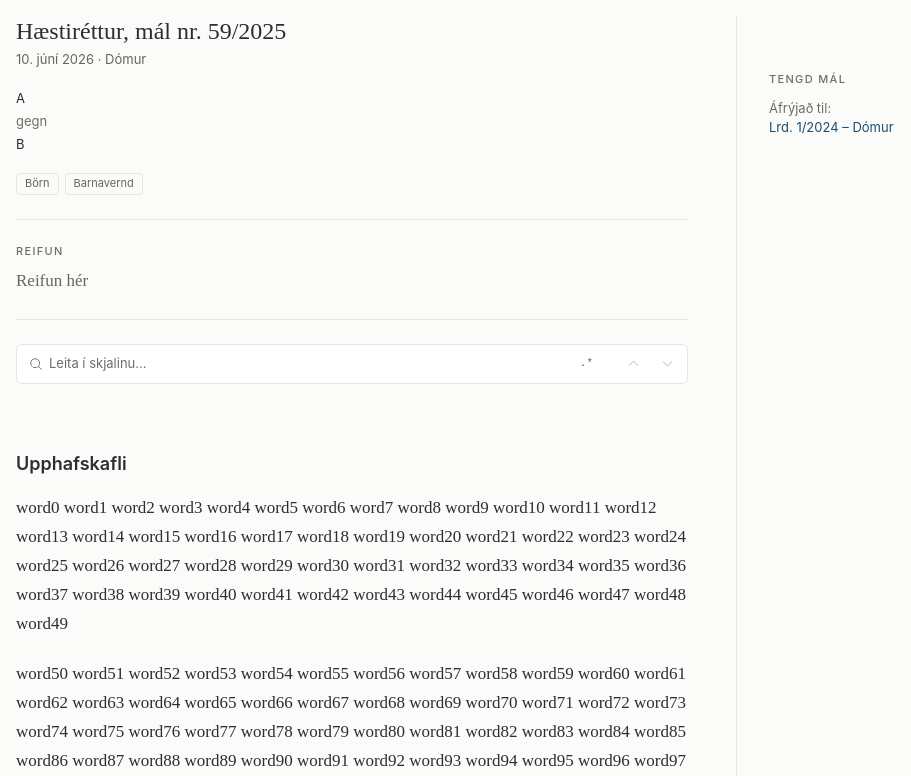
DocPanel search › shows no results for a query that doesn't appear in the text
Type "hvergitil" into the field labelled "Leita í skjalinu".
click(308, 364); type("hvergitil")  # box [49, 354, 568, 373]
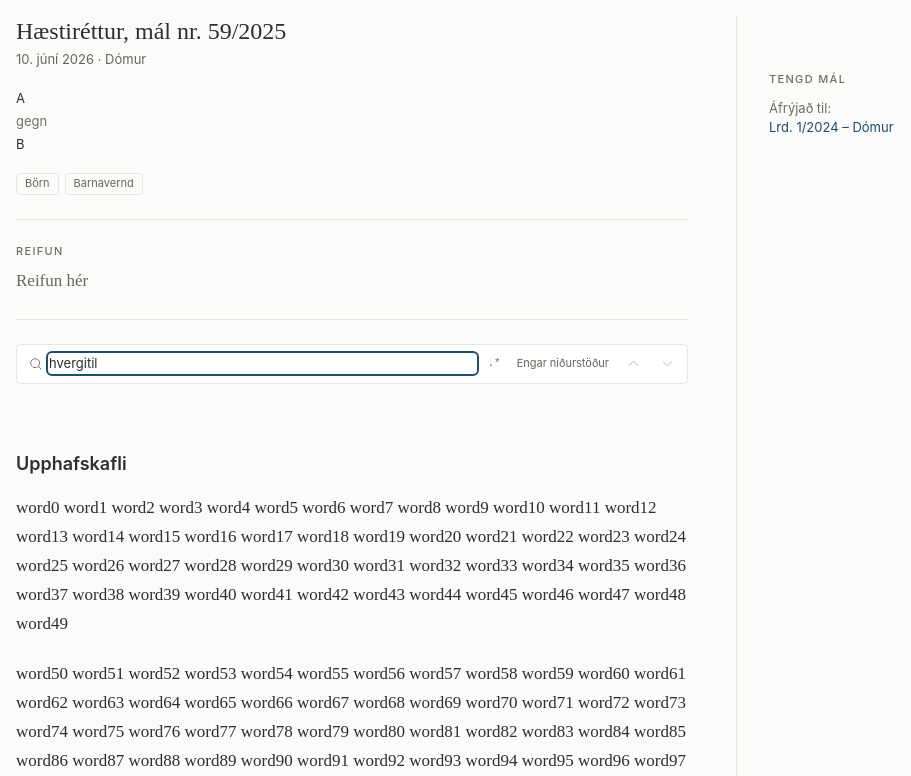
expect the text "Engar niðurstöður" is shown: met, box [513, 356, 613, 372]
